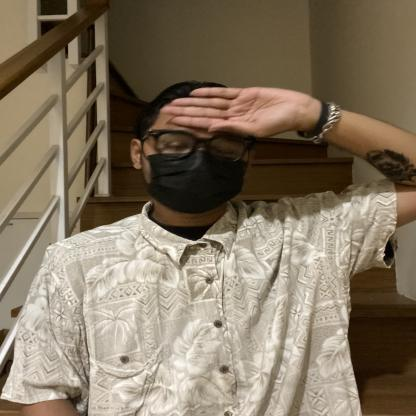Sick: (78, 62, 328, 181)
